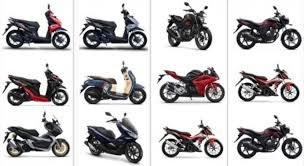motor: (234, 3, 304, 55), (237, 116, 304, 164), (1, 115, 71, 160), (82, 64, 148, 111), (4, 7, 70, 53), (80, 8, 146, 54), (86, 115, 145, 165), (158, 66, 226, 108), (160, 121, 224, 163), (237, 67, 301, 106), (5, 69, 67, 109), (165, 3, 212, 52)
